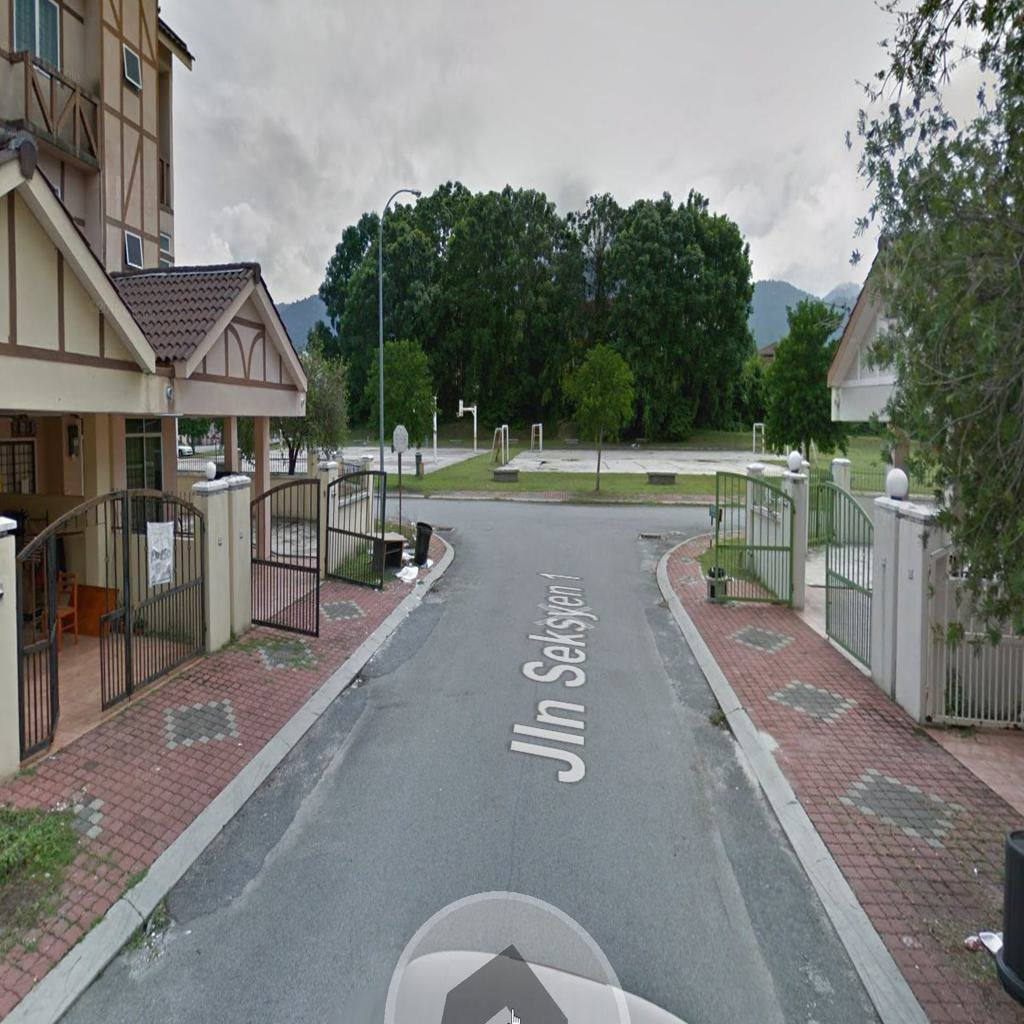Junction: (327, 464, 488, 579), (612, 468, 764, 585)
